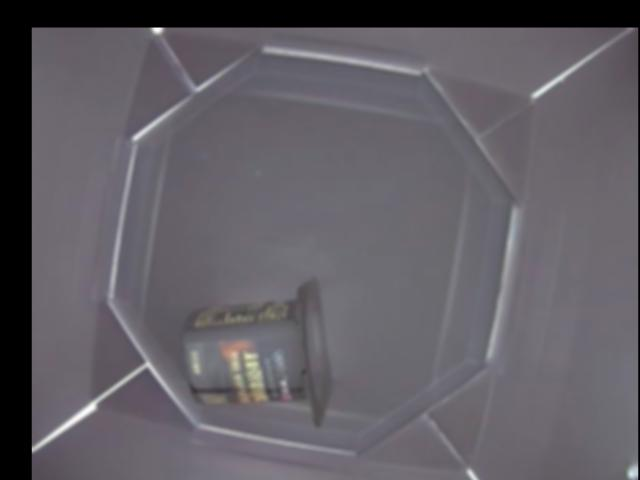Cup: (184, 277, 336, 421)
